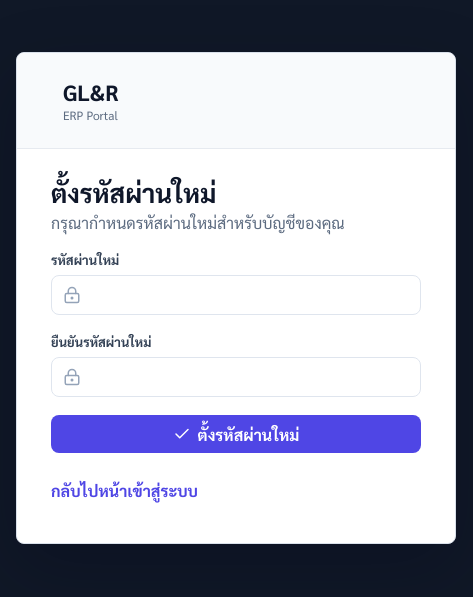
Test: ResetPasswordPage › invalid or expired token rejected by the server › shows the server's own Thai message and a way back to request a new link
Step 1. Type "BrandNewPass1!" into the password field with test id "reset-password-new" → (236,295), box [51,275,421,315]
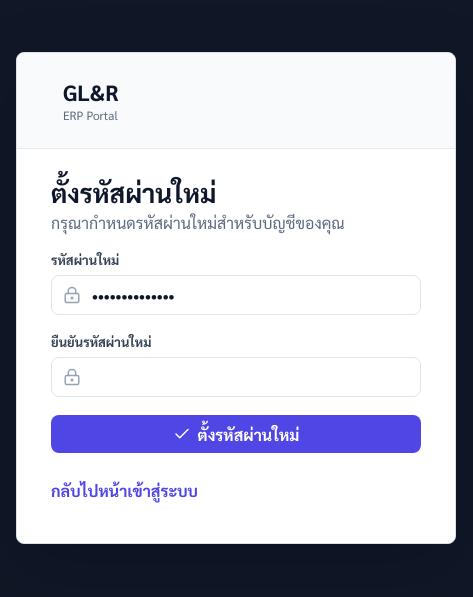
Step 2. Type "BrandNewPass1!" into the password field with test id "reset-password-confirm" → (236,377), box [51,357,421,397]
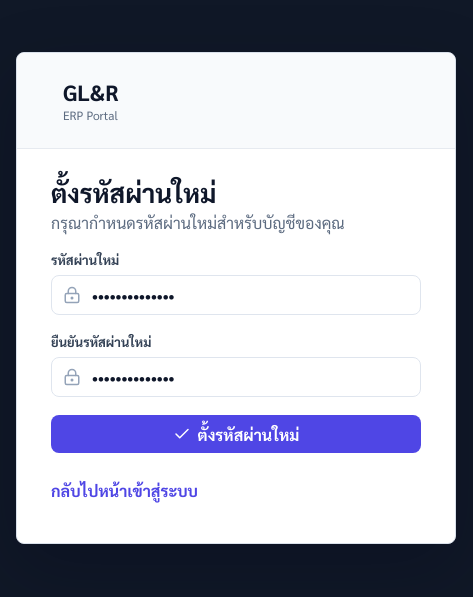
Step 3. Click the button with test id "reset-password-submit" → (236,434), box [51,415,421,453]
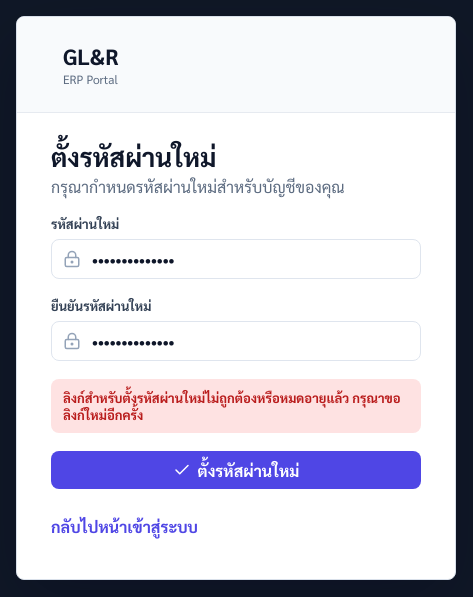
Expected: the button with test id "reset-password-submit" is shown, [51,451,421,489]
Now the text "ลิงก์สำหรับตั้งรหัสผ่านใหม่ไม่ถูกต้องหรือหมดอายุแล้ว กรุณาขอลิงก์ใหม่อีกครั้ง" is shown, box [51,379,421,433]
